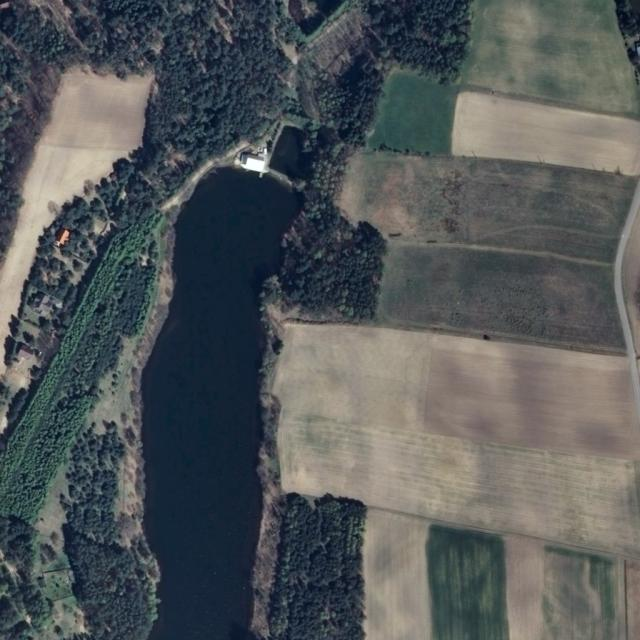agricultural_land: (329, 147, 640, 353)
dryland: (0, 45, 166, 392), (272, 126, 402, 329)
greenland: (246, 0, 484, 340), (236, 0, 500, 202), (269, 182, 395, 331), (363, 0, 470, 87), (367, 0, 473, 84)
